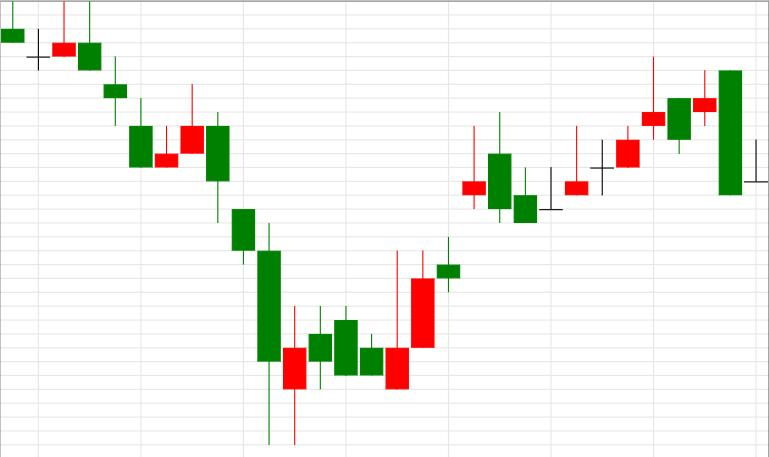bearish_engulfing_fall: (386, 112, 511, 391), (565, 57, 742, 195)
